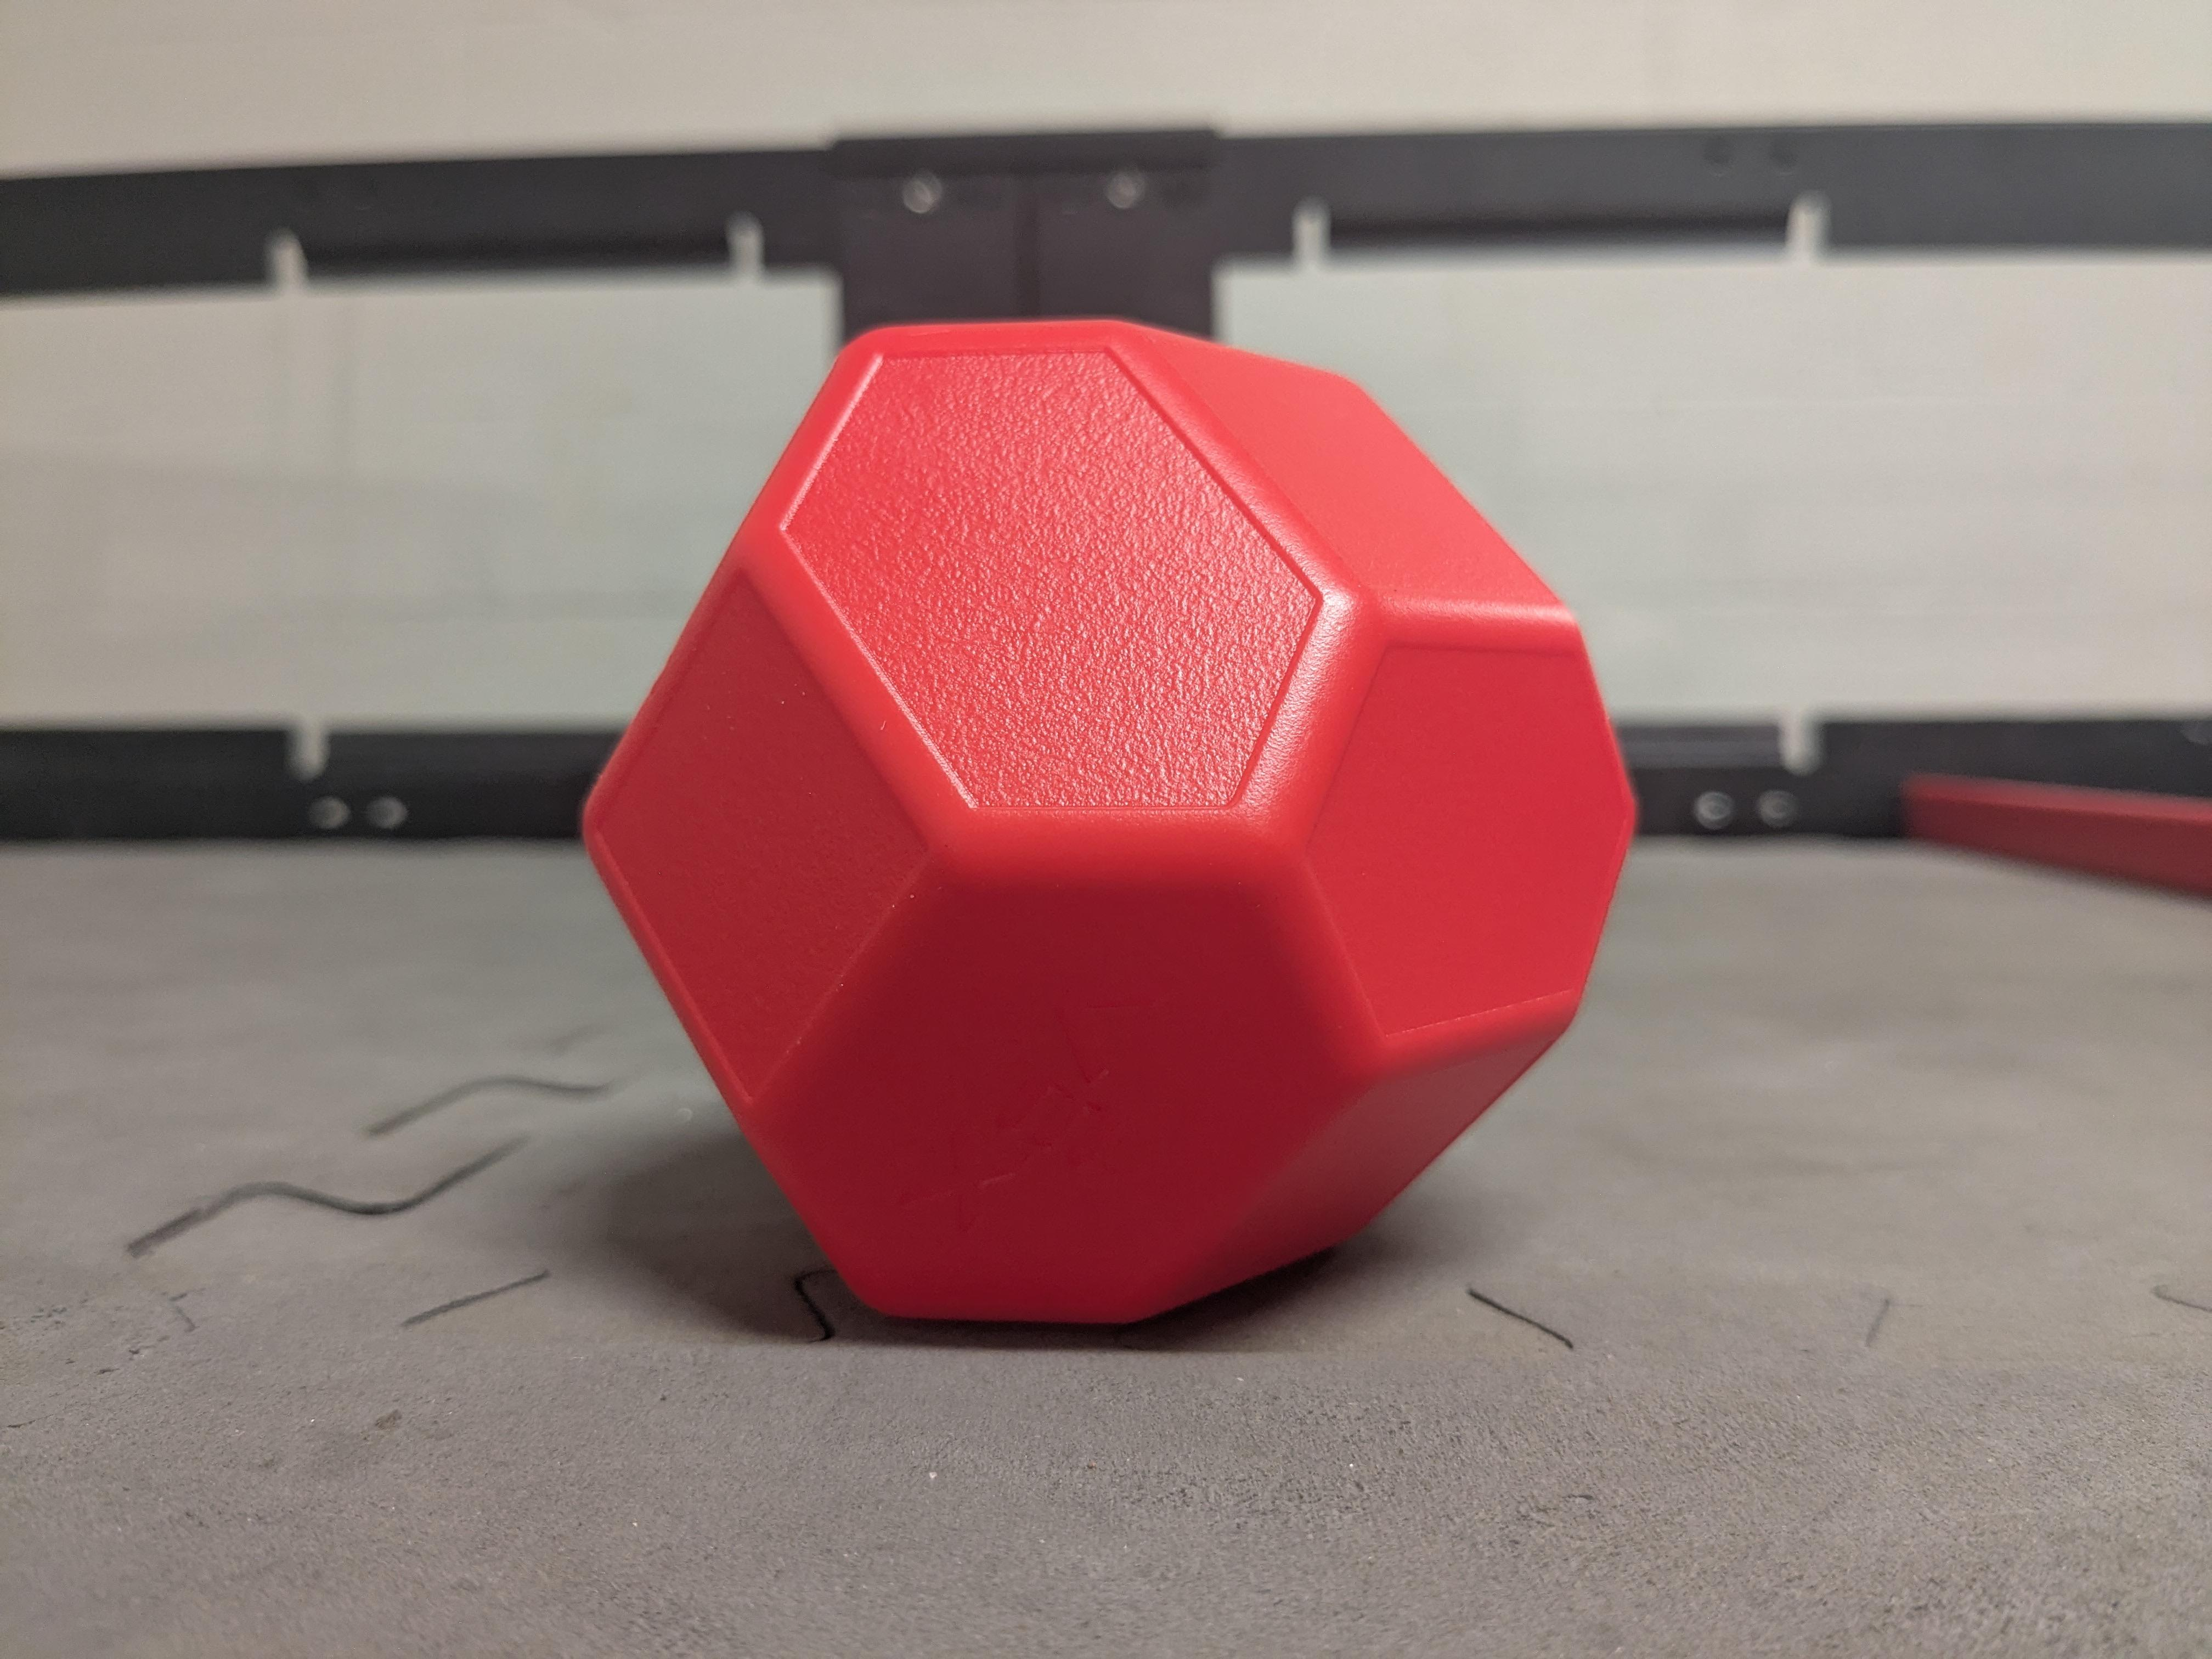Vex-Pieces-RED: (585, 321, 1635, 1321)
